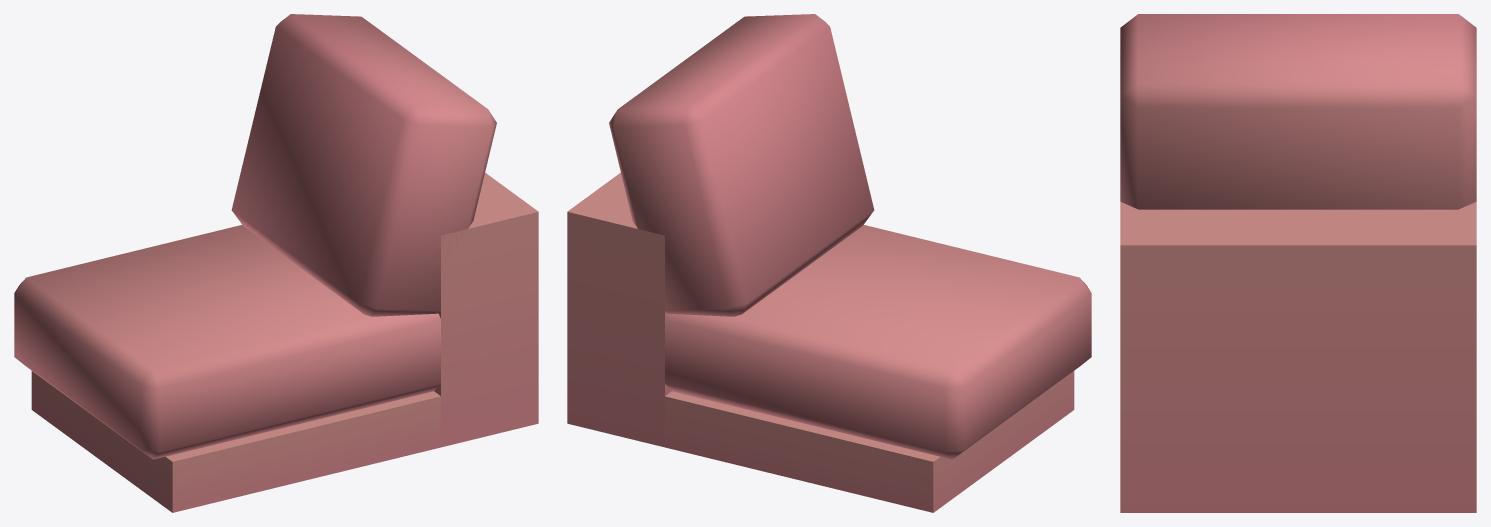
The model's file is amsterdam-sofa-center.glb.
The picture shows the model from 3 angles, left to right: view 1: azimuth 30°, elevation 25°; view 2: azimuth 150°, elevation 25°; view 3: azimuth 270°, elevation 25°; orthographic projection. The views are drawn at different scales.
Parts seen in each view (by area): view 1: amsterdam-sofa-center; view 2: amsterdam-sofa-center; view 3: amsterdam-sofa-center.
Boxes of the visible parts, left/top/right/bottom form: amsterdam-sofa-center: left=14, top=14, right=538, bottom=512; amsterdam-sofa-center: left=567, top=14, right=1091, bottom=512; amsterdam-sofa-center: left=1120, top=14, right=1476, bottom=512.
Bounding box in the file's own units: 0.8 × 0.6643 × 0.5.
